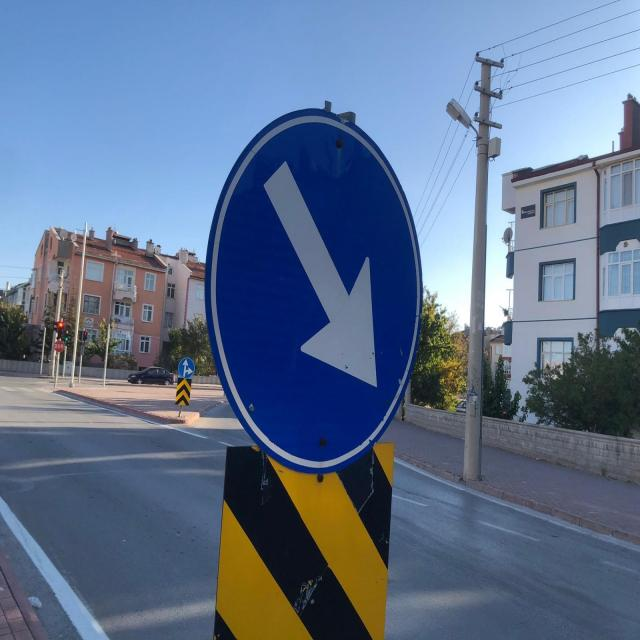compulsory_keep_right: (198, 103, 429, 472)
